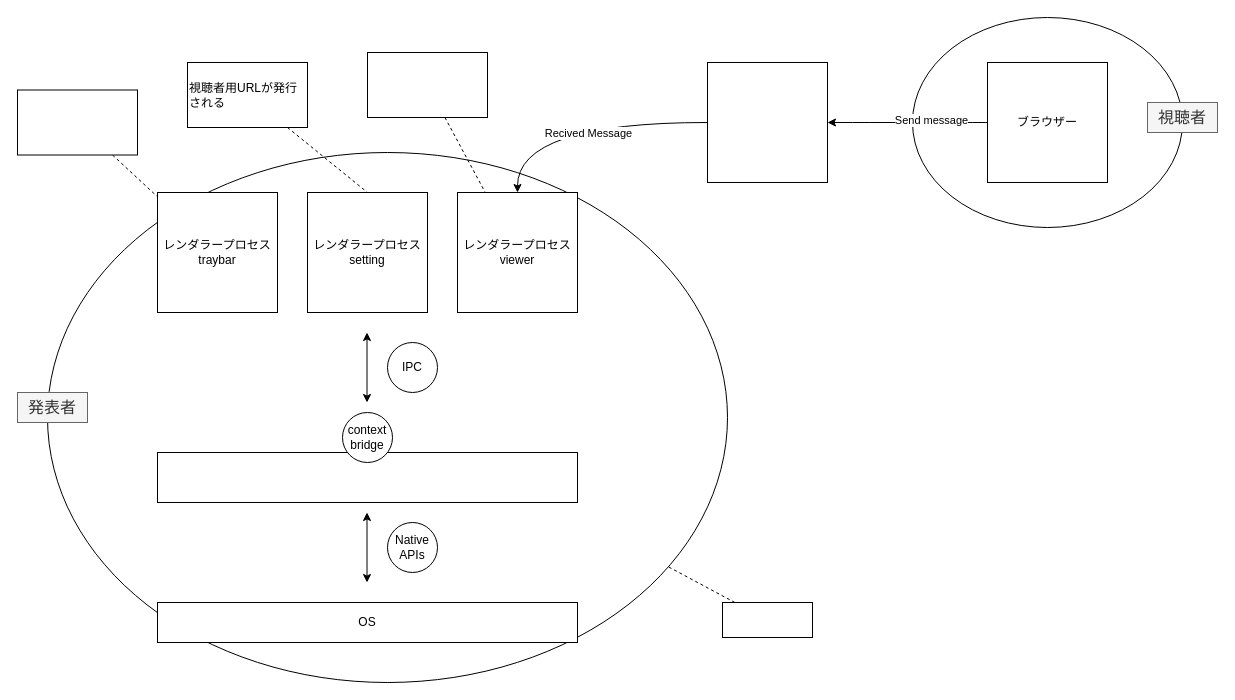
Some shapes in this 1235 by 700 pixel diagram are drawn without their labels. Here are the shapes that lost their labels. From the top down, the centre of each, then its label:
At (x=427, y=85): "視聴者からのリアクションが描画される".
At (x=77, y=122): "タスクバー アプリケーションを終了できる".
At (x=767, y=122): "AWS".
At (x=367, y=477): "メインプロセス（Node.js）".
At (x=767, y=620): "Electron".
